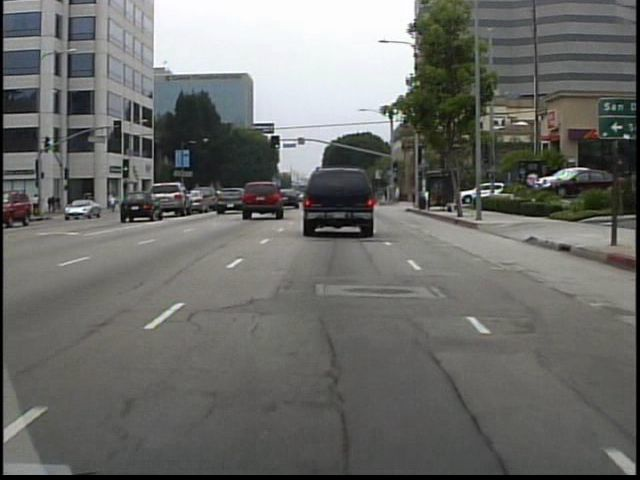person: (393, 183, 406, 206), (31, 188, 46, 207), (110, 191, 121, 214)
